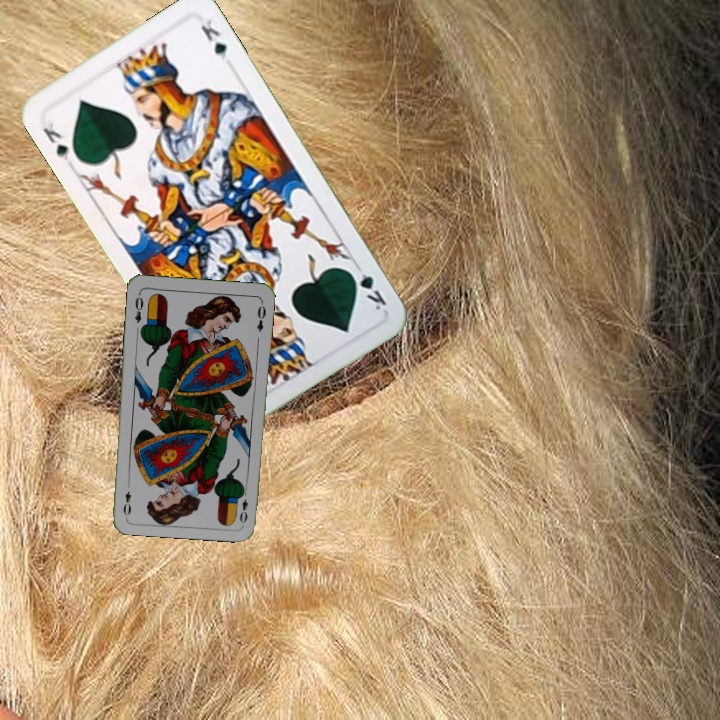EO: (236, 486, 251, 526), (131, 289, 146, 325)
GK: (344, 259, 389, 314), (39, 115, 74, 164)
